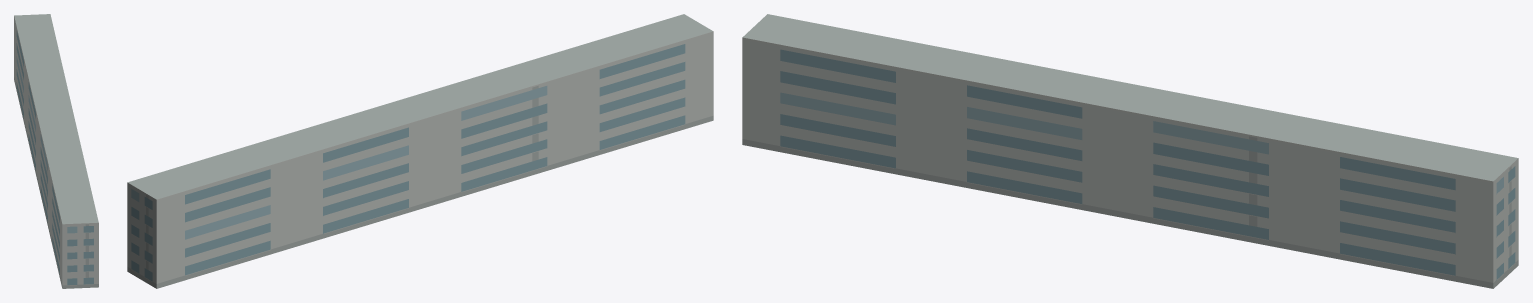
File: residential-23f6414e-804c-4e22-9f4b-daa4feb78e2e.glb
The picture shows the model from 3 angles, left to right: view 1: azimuth 30°, elevation 25°; view 2: azimuth 150°, elevation 25°; view 3: azimuth 270°, elevation 25°; orthographic projection. The views are drawn at different scales.
Visible parts, largest first — view 1: residential-23f6414e-804c-4e22-9f4b-daa4feb78e2e.tmp; view 2: residential-23f6414e-804c-4e22-9f4b-daa4feb78e2e.tmp; view 3: residential-23f6414e-804c-4e22-9f4b-daa4feb78e2e.tmp.
Boxes of the visible parts, left/top/right/bottom form: residential-23f6414e-804c-4e22-9f4b-daa4feb78e2e.tmp: left=14, top=14, right=98, bottom=288; residential-23f6414e-804c-4e22-9f4b-daa4feb78e2e.tmp: left=127, top=14, right=713, bottom=288; residential-23f6414e-804c-4e22-9f4b-daa4feb78e2e.tmp: left=742, top=14, right=1518, bottom=288.
Bounding box in the file's own units: 50.95 × 15.25 × 99.79.
